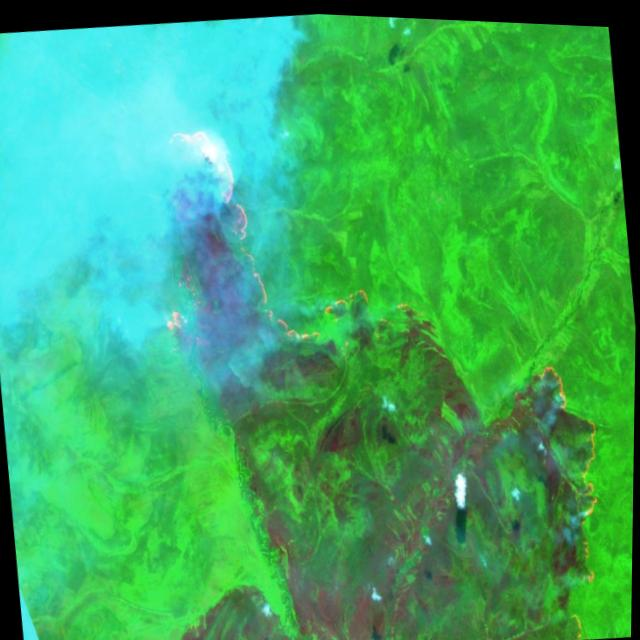fire: (116, 87, 443, 386), (517, 346, 626, 637)
